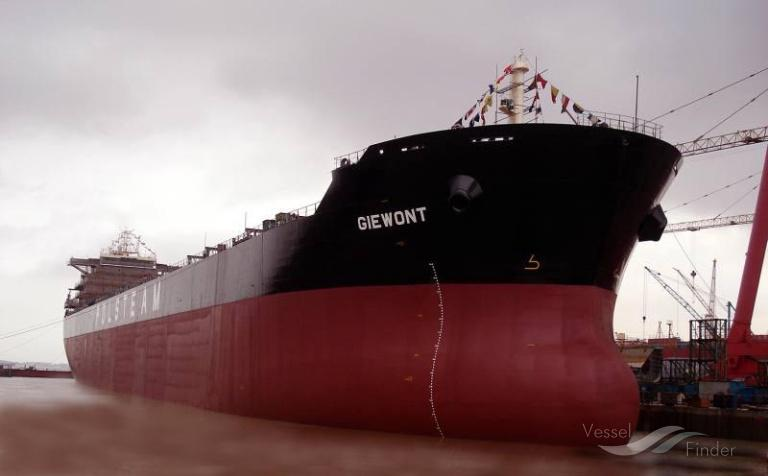OCR: (88, 278, 171, 328), (348, 205, 432, 232)
